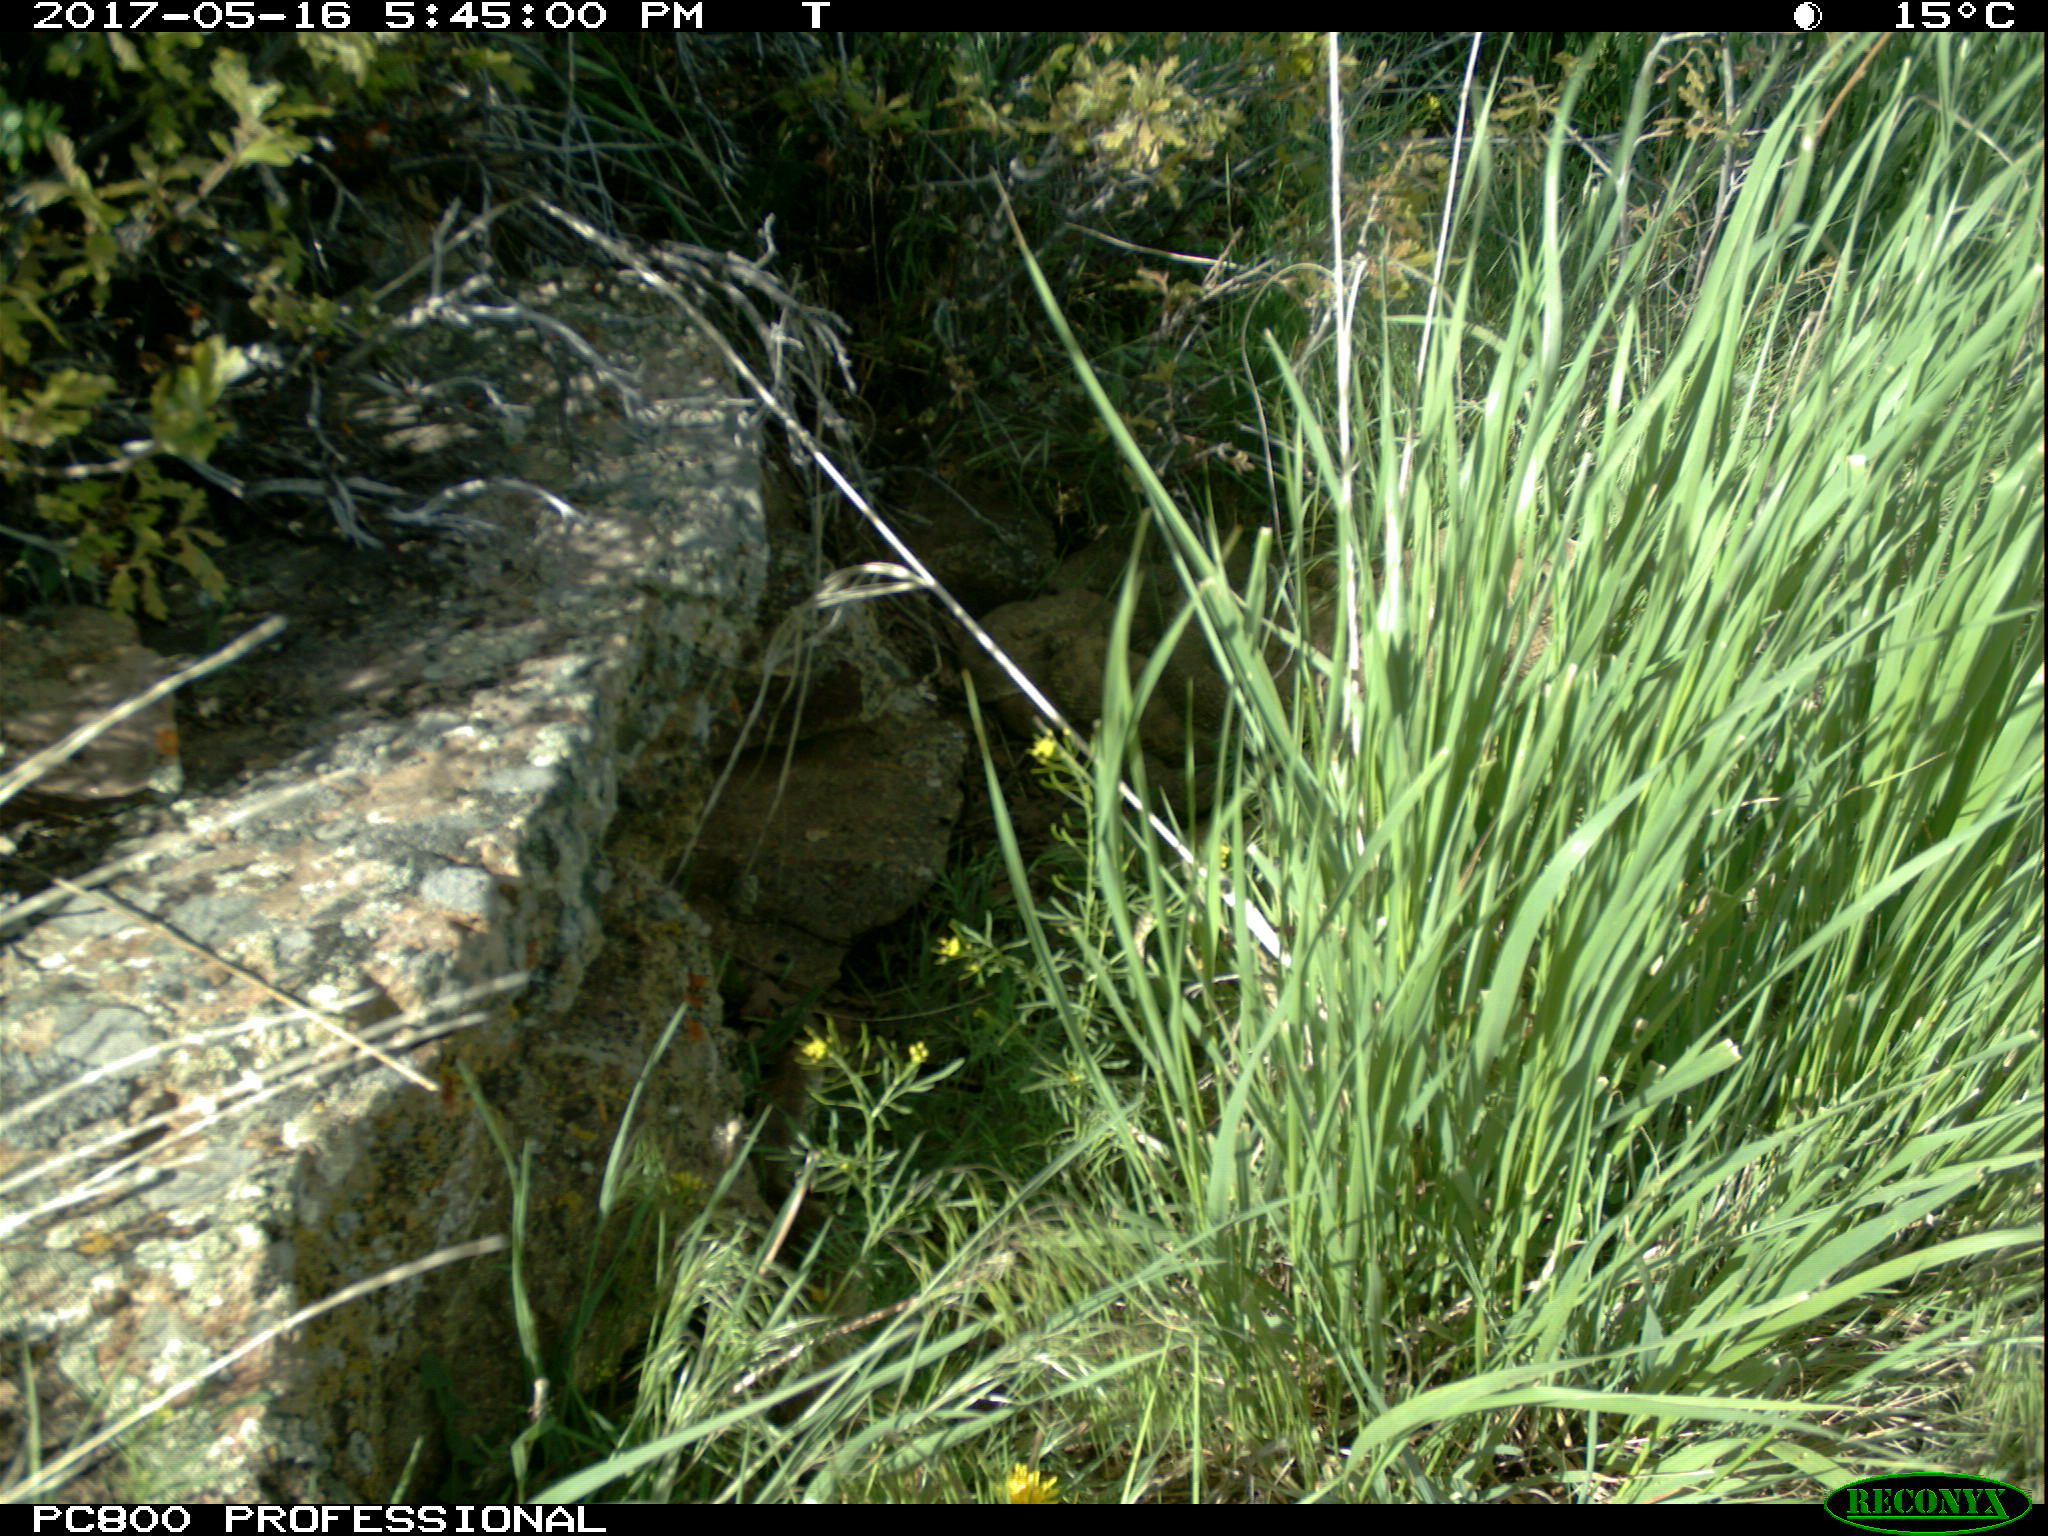snake: (955, 587, 1134, 697)
